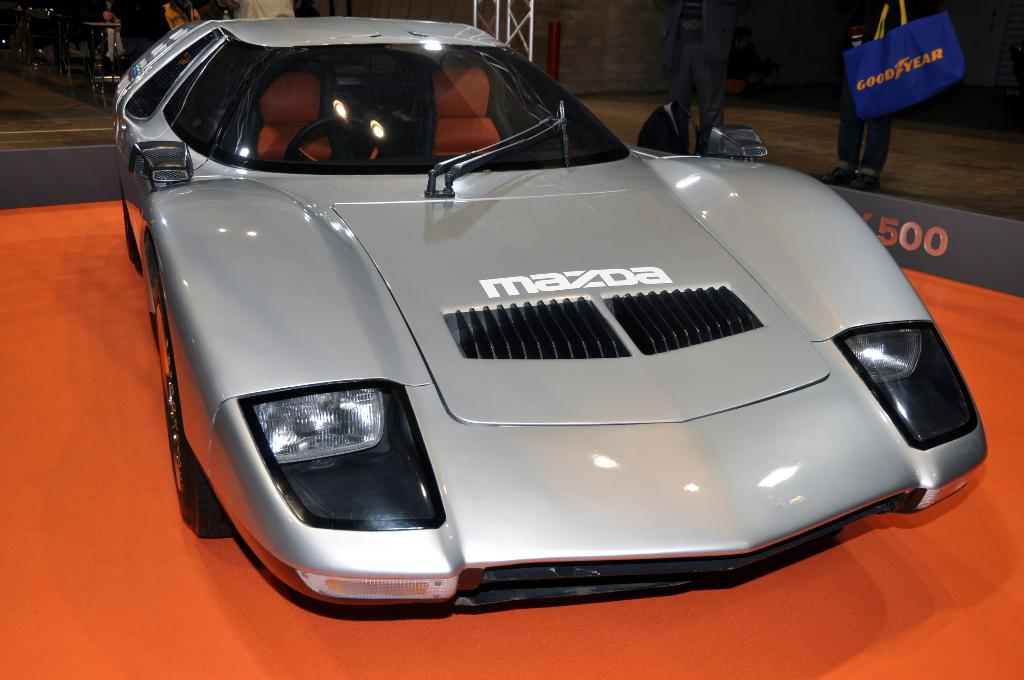person: (819, 23, 894, 190)
